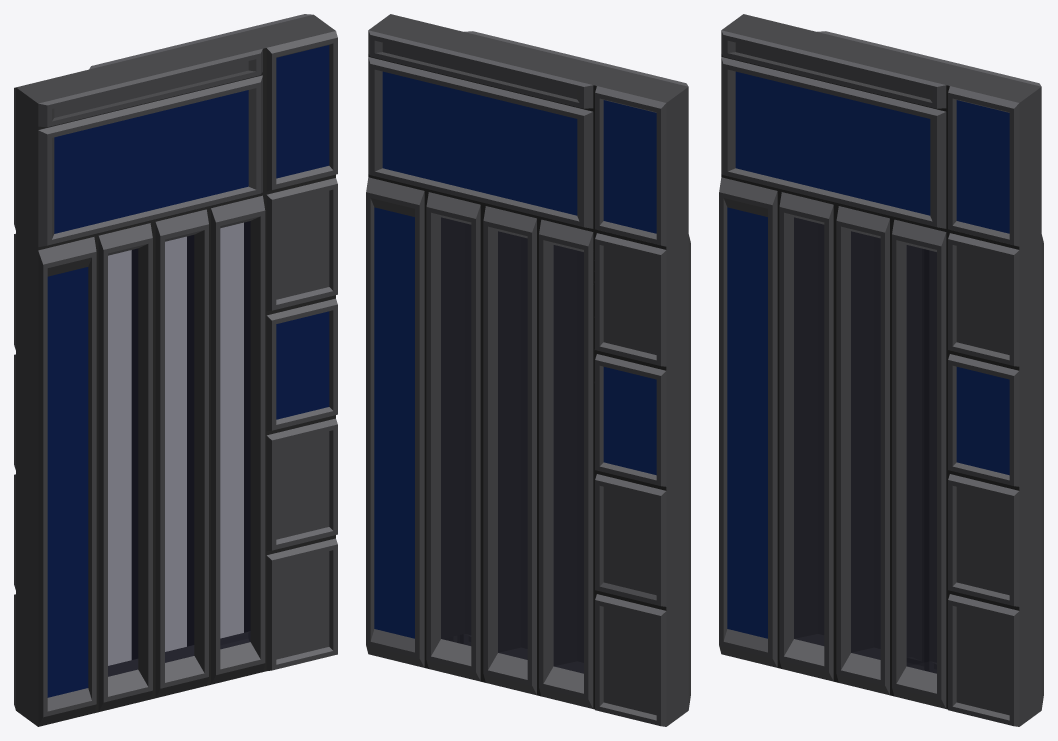
Rendered from CyberPunkWindow.glb.
3 renders of one model, left to right at view 1: azimuth 30°, elevation 25°; view 2: azimuth 150°, elevation 25°; view 3: azimuth 330°, elevation 25°, orthographic.
Parts seen in each view (by area): view 1: wall_cyberpunk_wind0w; view 2: wall_cyberpunk_wind0w; view 3: wall_cyberpunk_wind0w.
Boxes of the visible parts, x1,y1,x2,y2 form: wall_cyberpunk_wind0w: [14, 14, 337, 726]; wall_cyberpunk_wind0w: [366, 14, 690, 726]; wall_cyberpunk_wind0w: [719, 14, 1043, 726].
Size of what is drawn, in the model's own units: 2 by 4 by 0.342.
3 materials, 3 textured.
